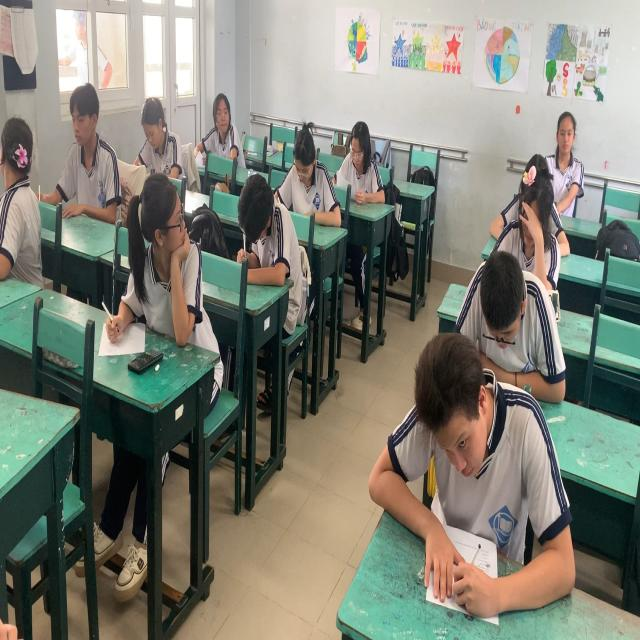cheating: (134, 180, 200, 344), (0, 112, 43, 288)
not_cheating: (401, 333, 517, 609), (465, 251, 544, 378), (59, 91, 120, 215), (224, 180, 288, 278), (134, 81, 185, 181), (288, 125, 333, 222), (334, 122, 382, 205), (506, 164, 550, 254), (206, 84, 249, 171), (549, 102, 582, 185)
